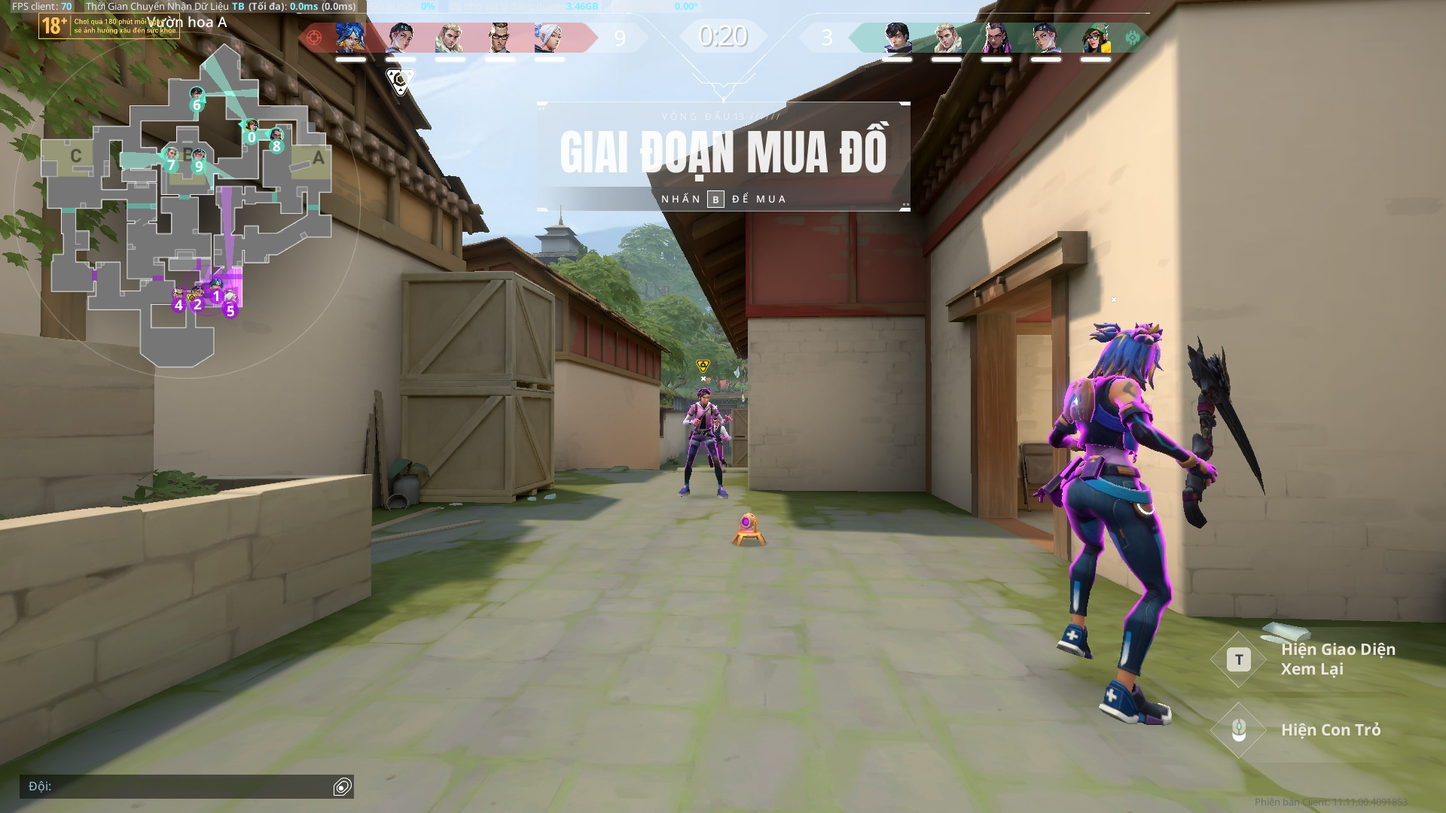body: (1066, 373, 1152, 459), (694, 401, 714, 431), (711, 425, 725, 440)
head: (1106, 324, 1158, 375), (698, 388, 712, 404), (713, 417, 719, 425)
